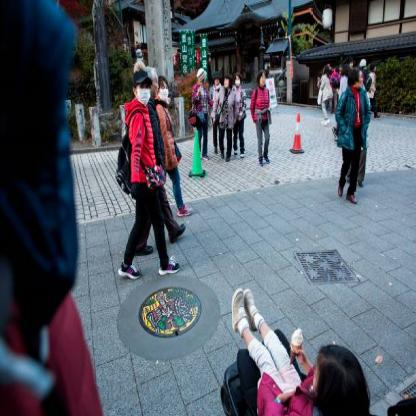manholes: (115, 260, 222, 356)
